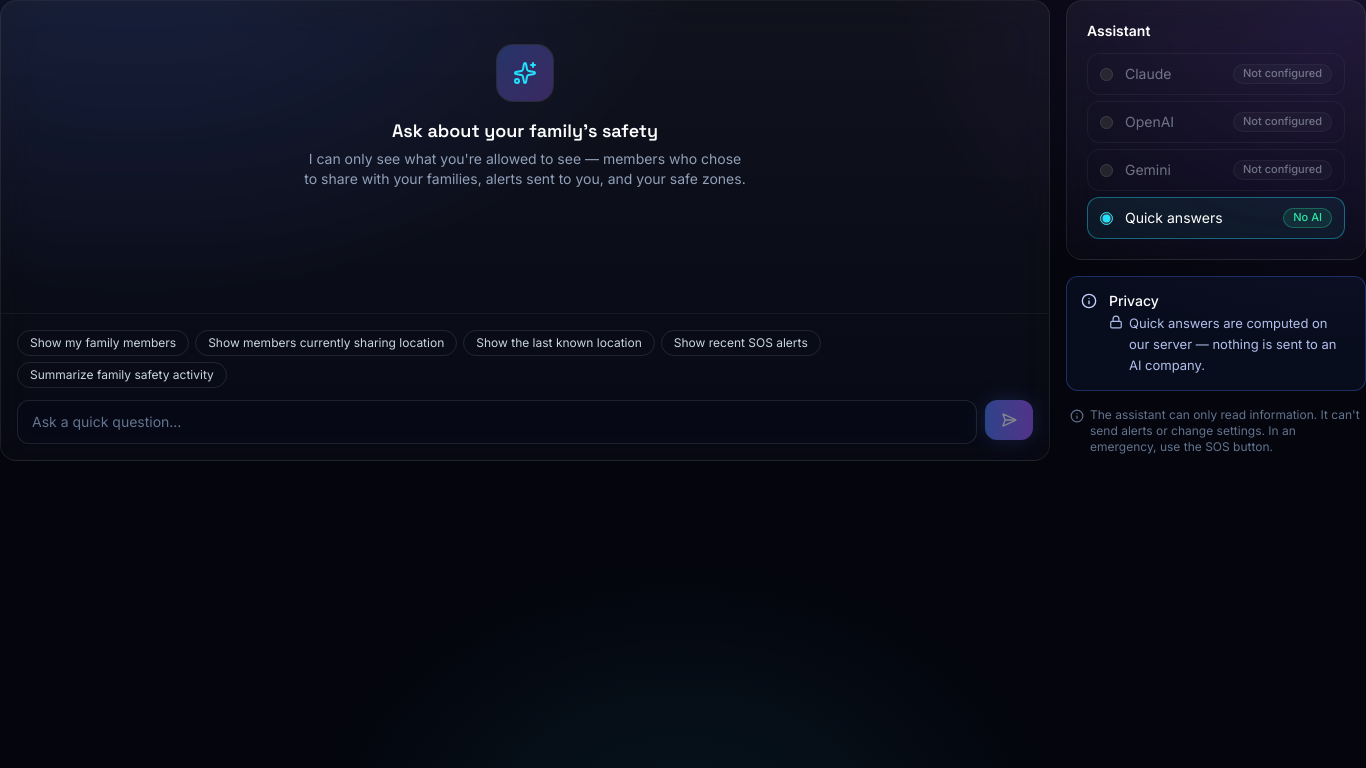
Test: AssistantChat › renders model output as plain text (no HTML injection)
This screenshot has width=1366, height=768.
Click the button "Show recent SOS alerts" at (741, 343), box [661,330,821,356]
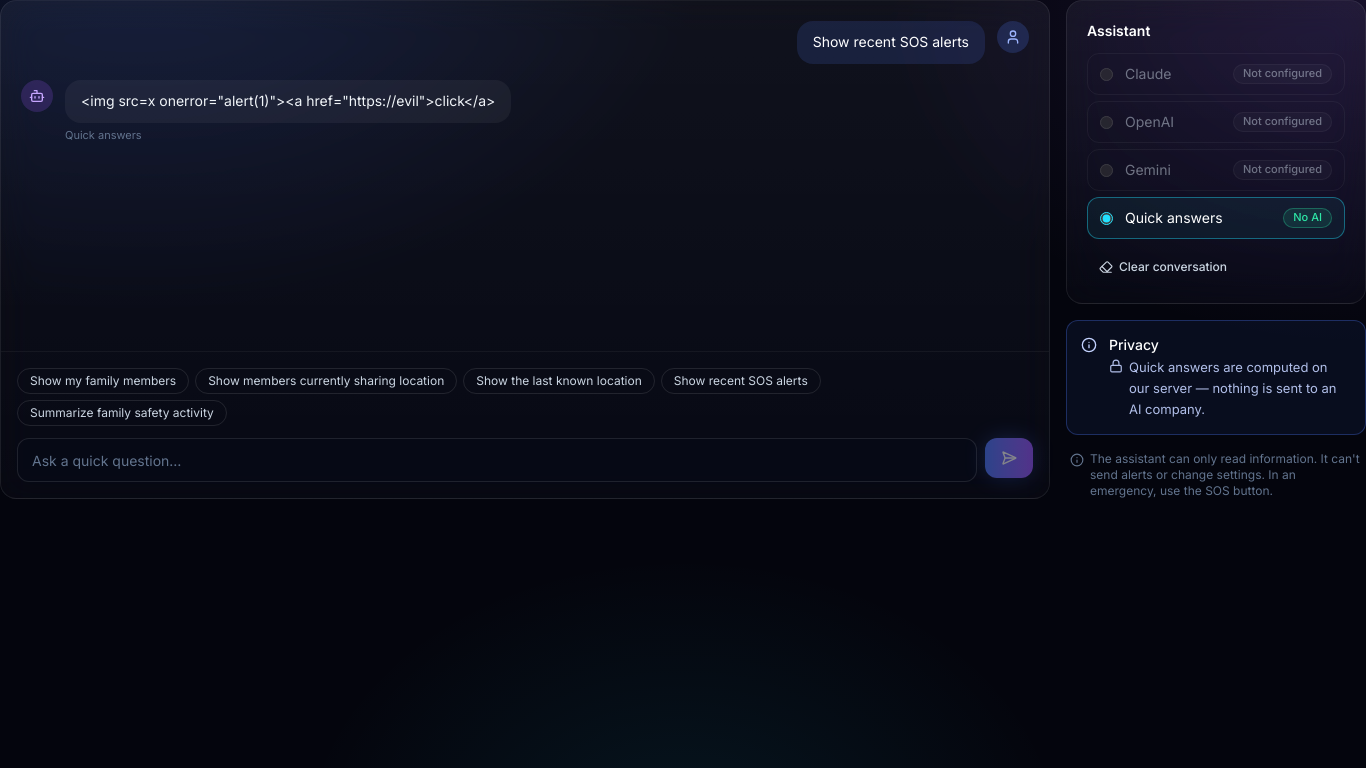
Check: the text "<img src=x" is shown, box [81,92,495,109]
